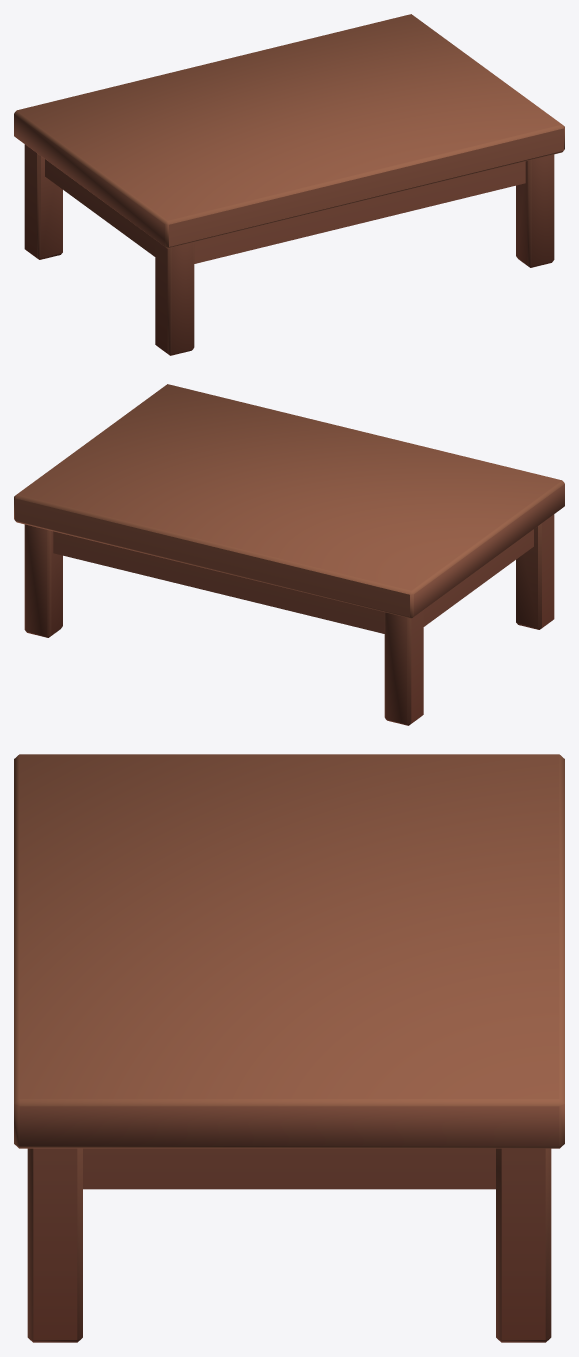
File: K_table_medium_long.glb
3 views of the same model, one above another, from view 1: azimuth 30°, elevation 25°; view 2: azimuth 150°, elevation 25°; view 3: azimuth 270°, elevation 25° (orthographic). The views are drawn at different scales.
Visible parts, largest first — view 1: table_medium_long; view 2: table_medium_long; view 3: table_medium_long.
Boxes of the visible parts, bbox=[...] form: table_medium_long: bbox=[14, 14, 564, 355]; table_medium_long: bbox=[14, 384, 564, 725]; table_medium_long: bbox=[14, 754, 564, 1342].
Bounding box in the file's own units: 3 × 1 × 2.
